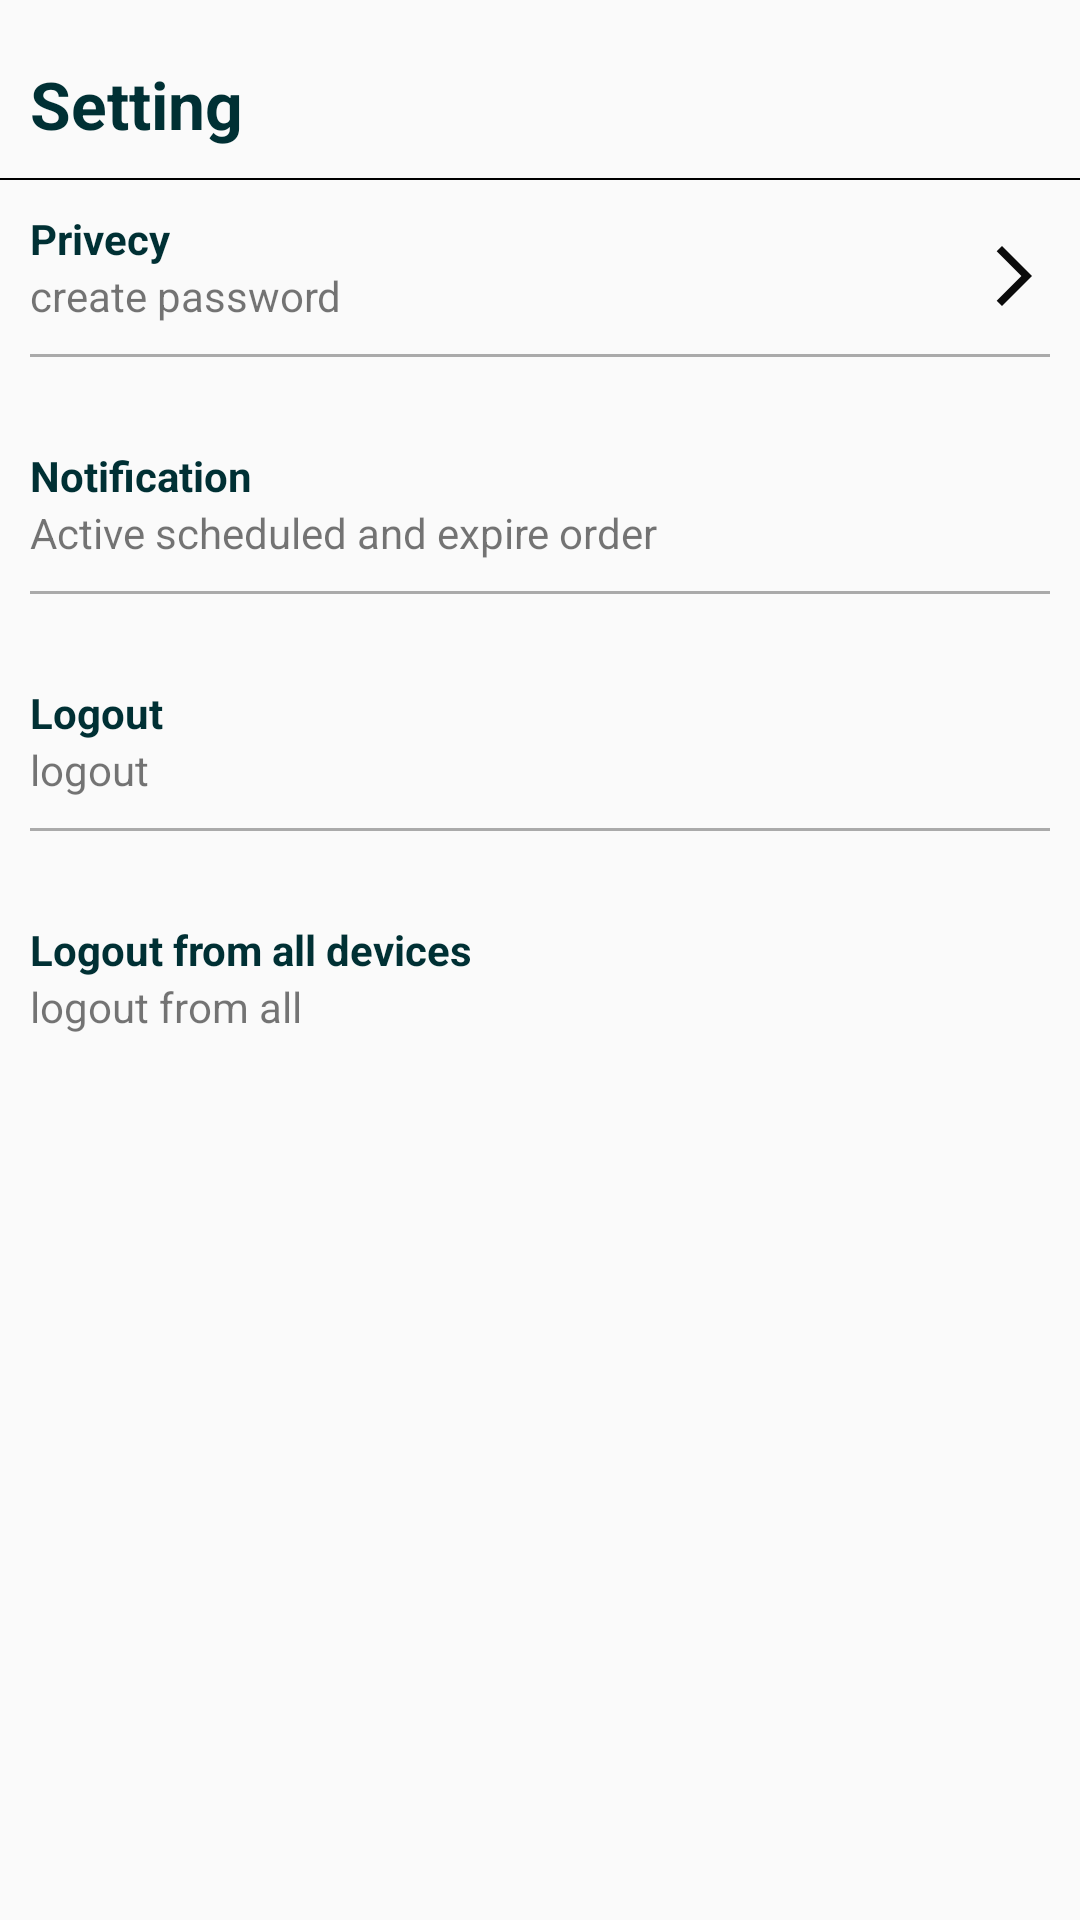

Locate icon controls on the screen. Image size 1080×1920, boxes as (left=x1, top=y1, right=x2, bottom=y2).
arrow forward: (left=997, top=246, right=1032, bottom=306)
